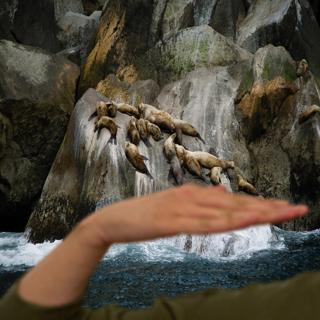WAIT: (93, 177, 315, 247)
